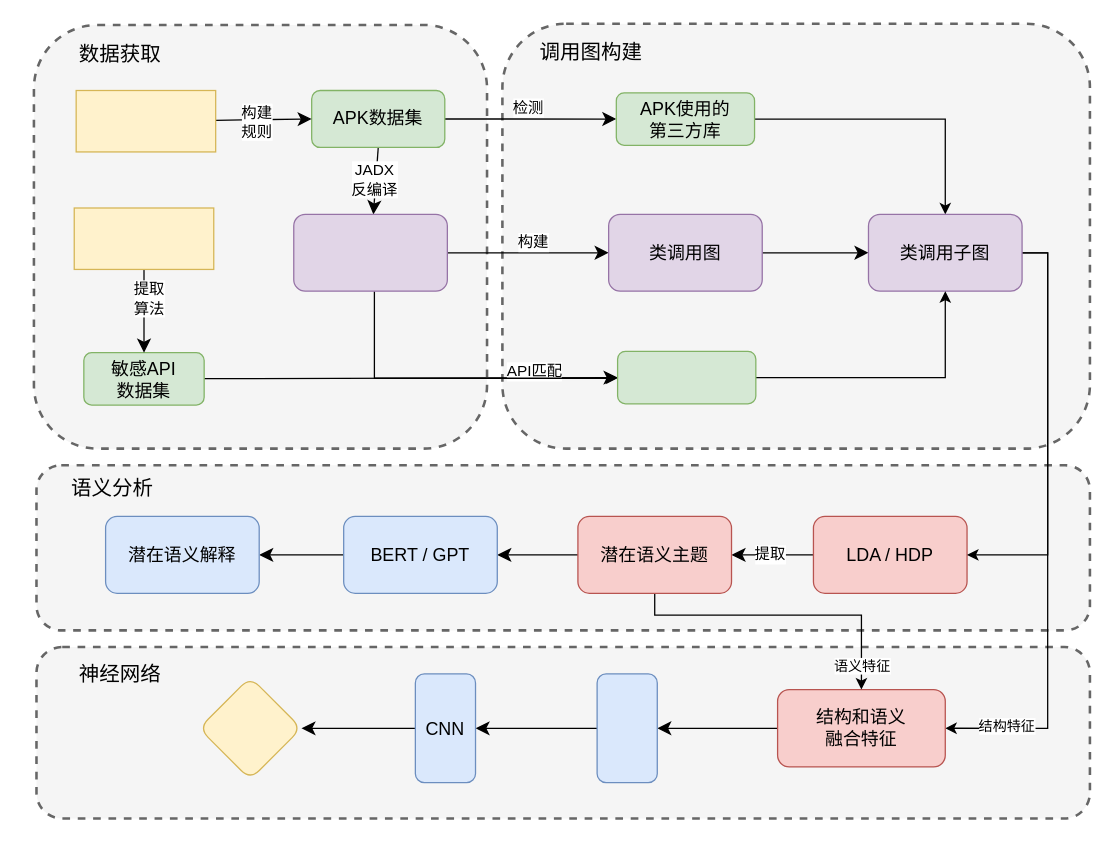
This 1112x841 diagram has some shape labels left out. The shapes that lost their labels are listed below. From the top down, each one's centre as x and y in pixels, then its label:
At (145,120): "获取APK文件".
At (143,238): "AOSP".
At (369,252): "Java源代码".
At (686,377): "类调用的 敏感API".
At (249,728): "恶意/良性".
At (626,728): "GAT".
